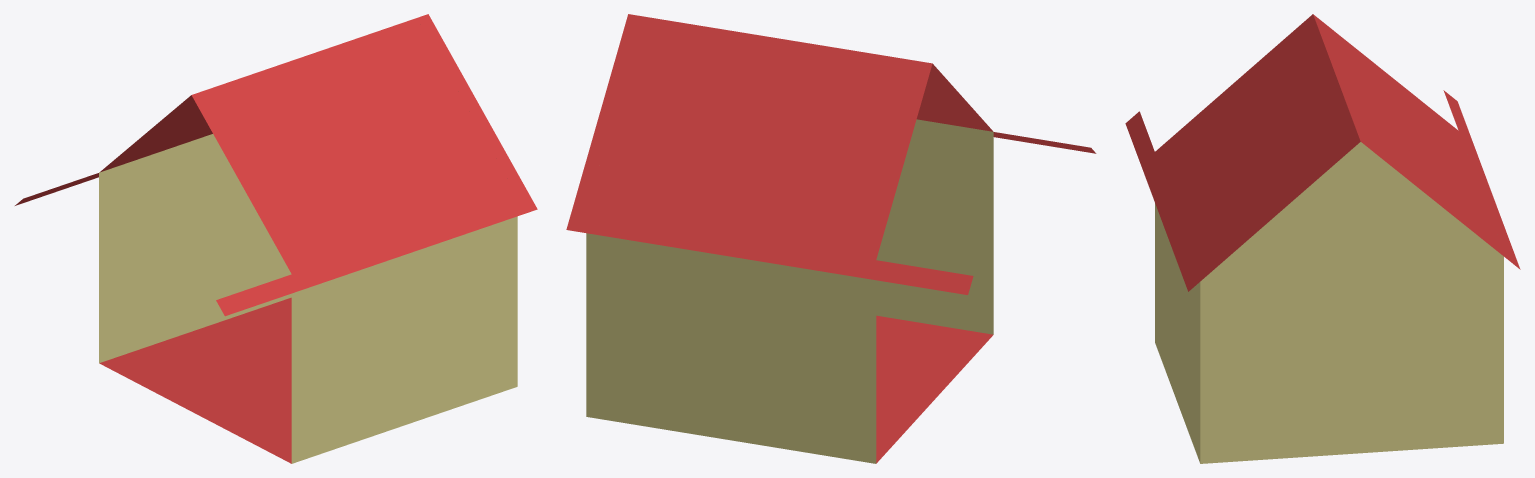
3 views of the same model, side by side, from view 1: azimuth 30°, elevation 25°; view 2: azimuth 150°, elevation 25°; view 3: azimuth 270°, elevation 25° (orthographic). The views are drawn at different scales.
Size of the model in its own units: 15.65 by 13.7 by 12.15.
